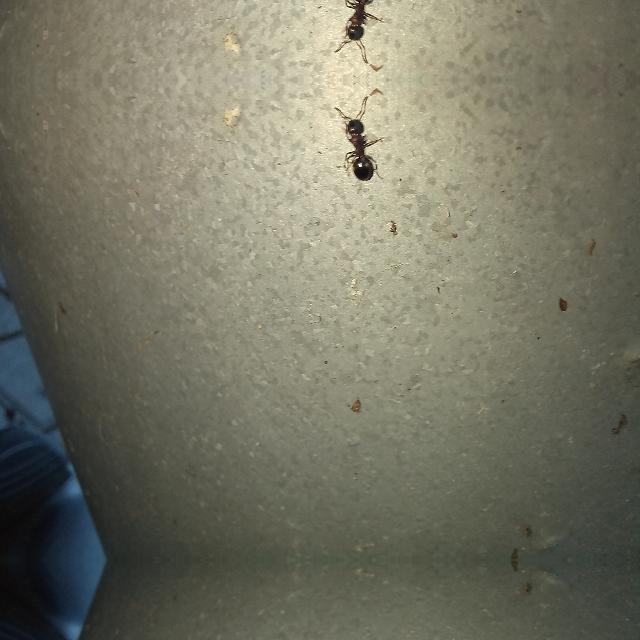Dolichoderus: (332, 100, 392, 182), (332, 0, 392, 60)
